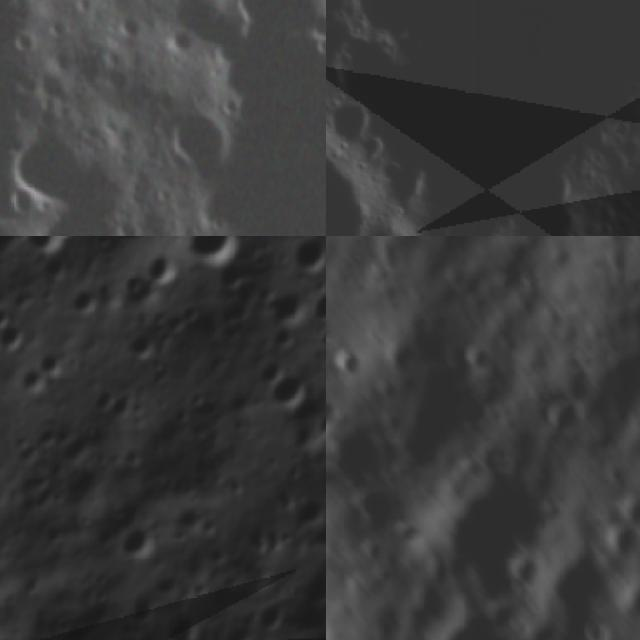crater: (329, 0, 640, 231), (431, 454, 543, 608), (8, 126, 107, 214), (156, 100, 241, 177), (326, 408, 382, 505), (326, 154, 377, 236), (169, 236, 255, 284), (261, 360, 326, 423), (55, 236, 189, 266), (326, 92, 373, 151), (284, 481, 326, 543), (111, 522, 160, 574), (0, 311, 40, 367), (279, 236, 326, 280), (32, 339, 78, 381), (17, 236, 77, 267), (507, 548, 544, 592), (609, 520, 640, 571), (296, 278, 326, 330), (460, 334, 498, 372), (381, 340, 414, 382), (306, 396, 326, 454), (329, 349, 371, 376), (574, 617, 617, 640), (0, 293, 18, 333)
